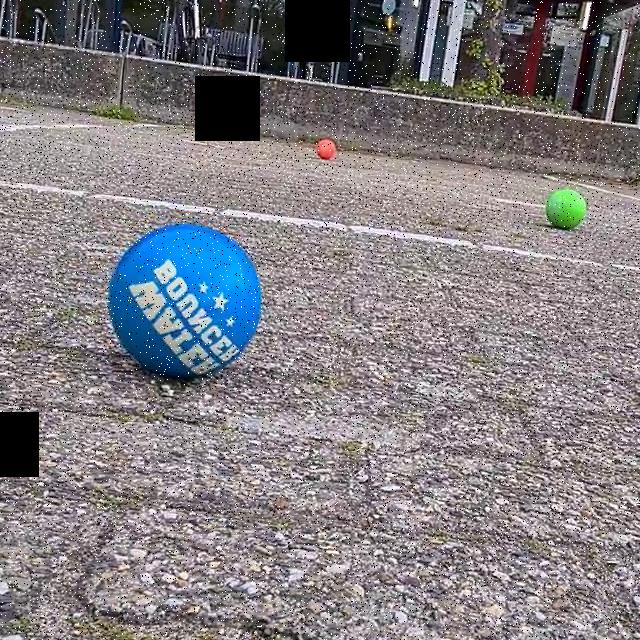ball: (542, 184, 590, 235), (312, 134, 341, 166)
